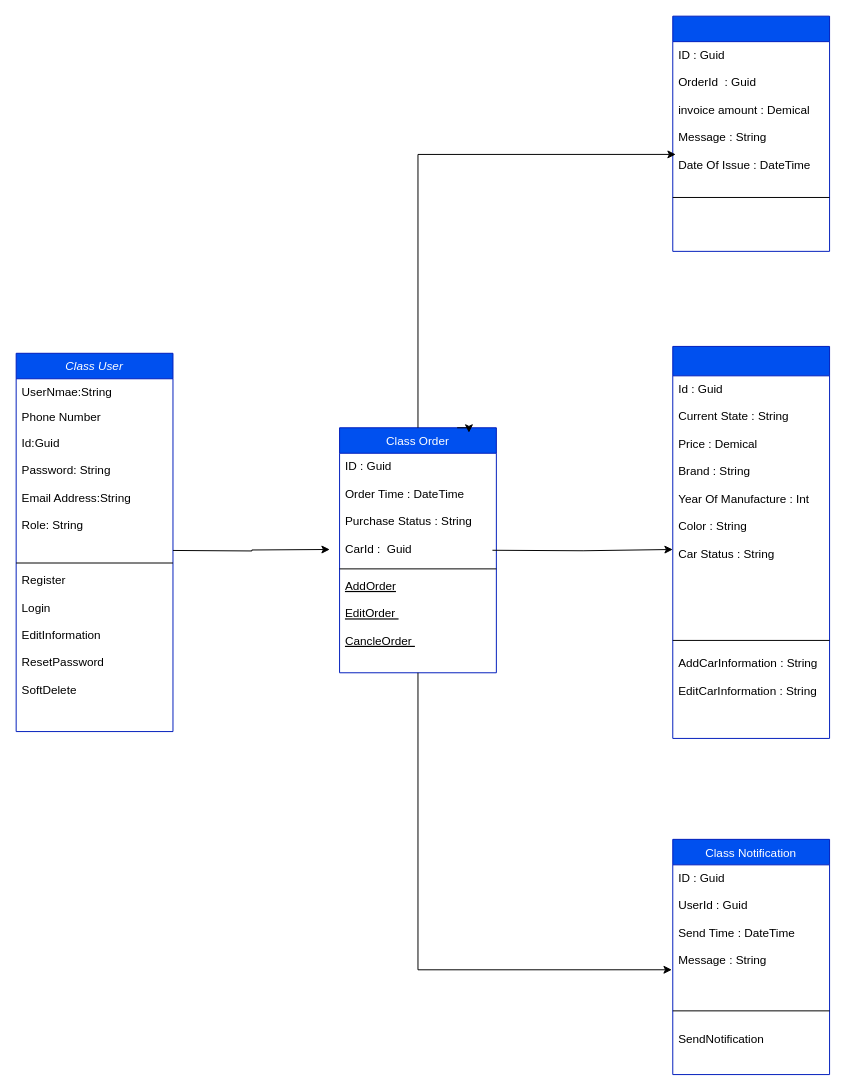
Some shapes in this 846 by 1091 pixel diagram are drawn without their labels. The box of each missing label's shape, as (x1, y1, x2, y2) in pixels:
Class Car: (672, 345, 830, 738)
Class Invoice: (672, 15, 830, 251)
